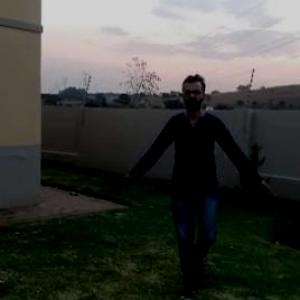land: (120, 63, 275, 299)
